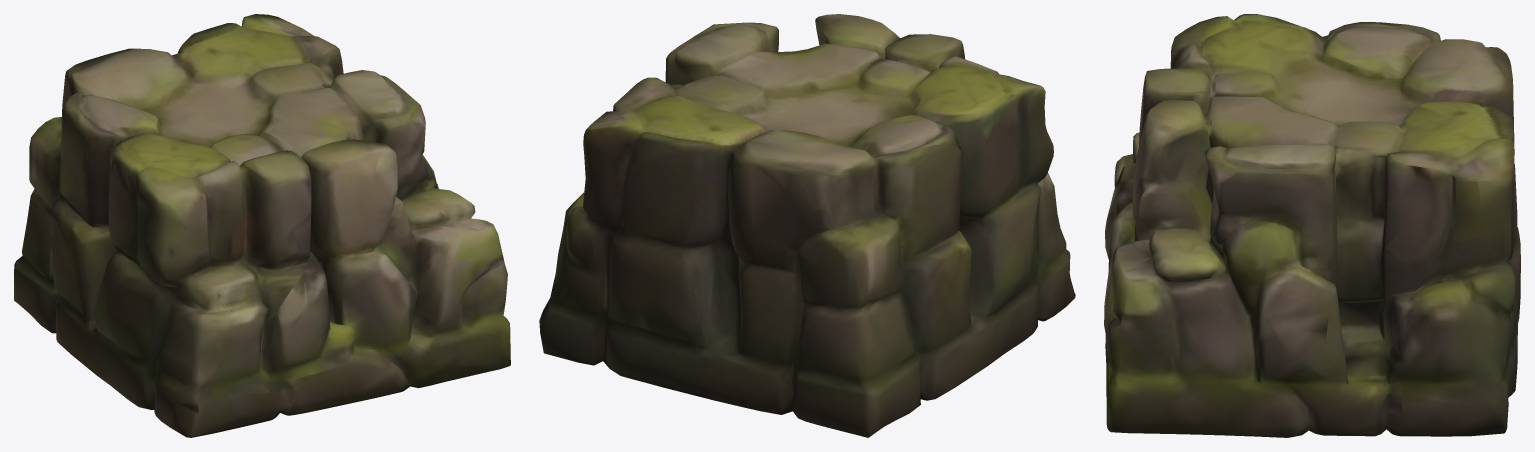
File: t07_rocha_musgo_alta.glb
The picture shows the model from 3 angles, left to right: view 1: azimuth 30°, elevation 25°; view 2: azimuth 150°, elevation 25°; view 3: azimuth 270°, elevation 25°; orthographic projection. The views are drawn at different scales.
Parts seen in each view (by area): view 1: t07_rocha_musgo_alta; view 2: t07_rocha_musgo_alta; view 3: t07_rocha_musgo_alta.
Part boxes in pixels (x1,y1,x2,y2): t07_rocha_musgo_alta: [14, 14, 510, 437]; t07_rocha_musgo_alta: [539, 14, 1075, 437]; t07_rocha_musgo_alta: [1104, 14, 1520, 437].
Bounding box in the file's own units: 1.07 × 0.6778 × 1.02.
Materials: 1 (1 with a texture image).
